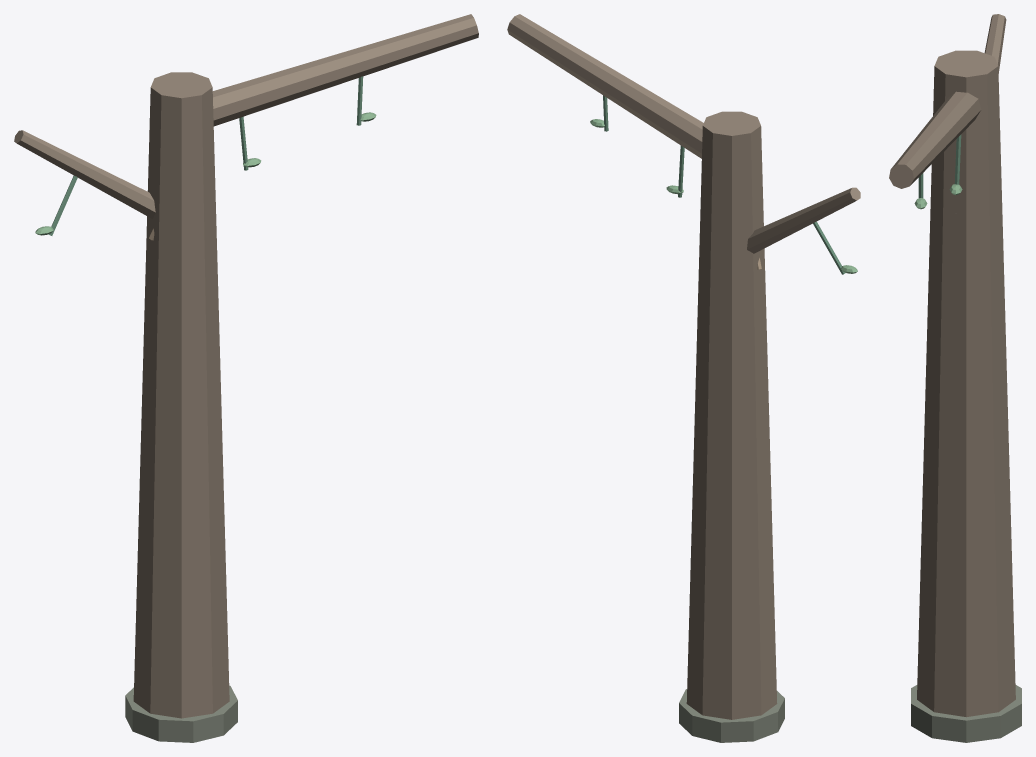
The model's file is arbol_podrido.glb.
3 renders of one model, left to right at view 1: azimuth 30°, elevation 25°; view 2: azimuth 150°, elevation 25°; view 3: azimuth 270°, elevation 25°, orthographic. The views are drawn at different scales.
Visible parts, largest first — view 1: arbol_podrido; view 2: arbol_podrido; view 3: arbol_podrido.
Part boxes in pixels (x1,y1,x2,y2): arbol_podrido: (14, 14, 478, 742); arbol_podrido: (507, 14, 860, 742); arbol_podrido: (889, 14, 1021, 742).
Size of the model in its own units: 7.62 by 11.64 by 2.05.
